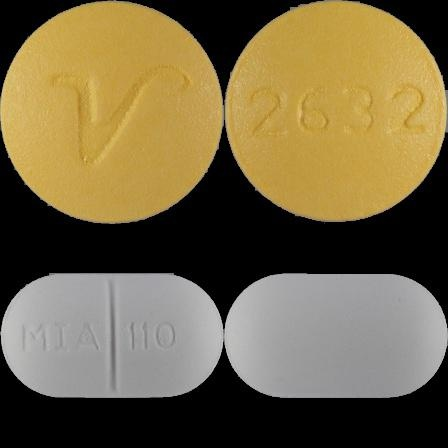50436-4842: (0, 0, 224, 224)
